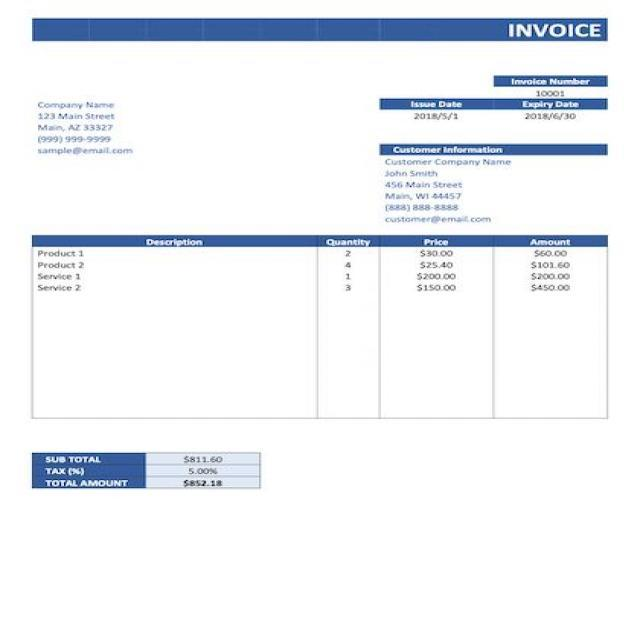customer_address: (380, 180, 470, 202)
customer_name: (384, 157, 516, 179)
due_date: (521, 112, 585, 123)
invoice_date: (410, 111, 466, 125)
invoice_number: (533, 89, 566, 97)
invoice_subtotal: (181, 452, 231, 465)
invoice_total: (182, 479, 226, 490)
item_description: (34, 248, 102, 300)
item_quantity: (337, 248, 362, 297)
item_total_price: (528, 248, 576, 296)
item_unit_price: (414, 247, 458, 296)
supplier_address: (32, 111, 120, 135)
supplier_name: (34, 96, 120, 111)
tax_rate: (185, 466, 219, 476)
